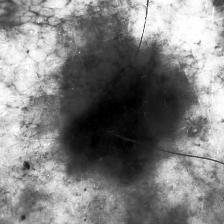Benign Marking or Mole: (61, 48, 180, 185)
